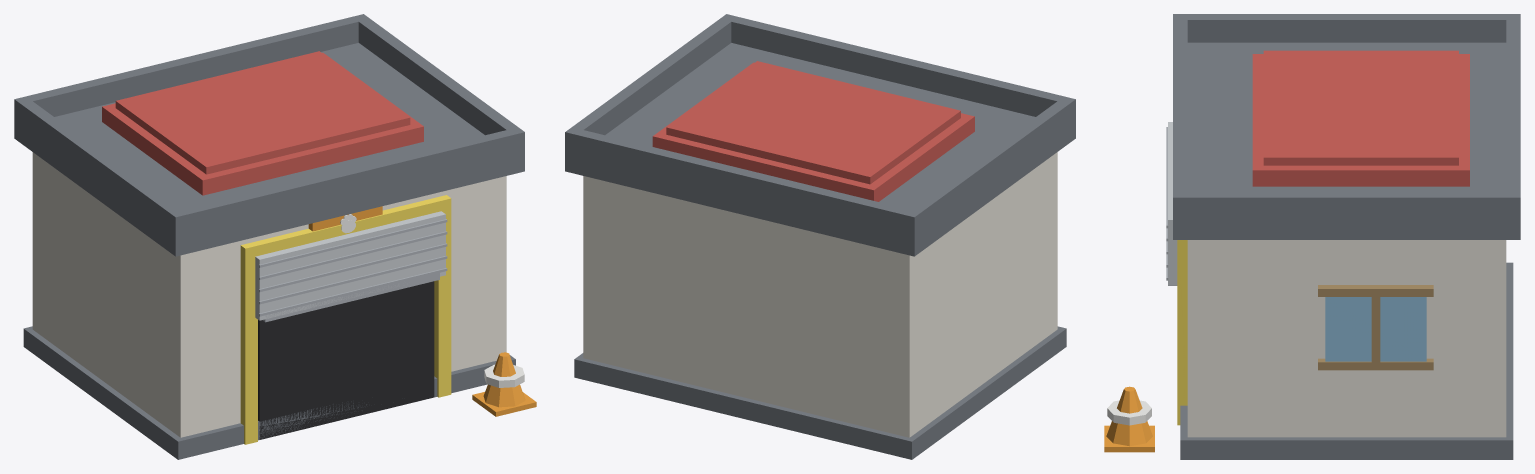
The model's file is cat_house.glb.
3 renders of one model, left to right at view 1: azimuth 30°, elevation 25°; view 2: azimuth 150°, elevation 25°; view 3: azimuth 270°, elevation 25°, orthographic. The views are drawn at different scales.
Parts seen in each view (by area): view 1: cat_house; view 2: cat_house; view 3: cat_house.
Part boxes in pixels (bbox=[...]): cat_house: bbox=[14, 14, 536, 459]; cat_house: bbox=[565, 14, 1075, 459]; cat_house: bbox=[1104, 14, 1520, 459].
Bounding box in the file's own units: 0.75 × 0.5087 × 0.7187.
